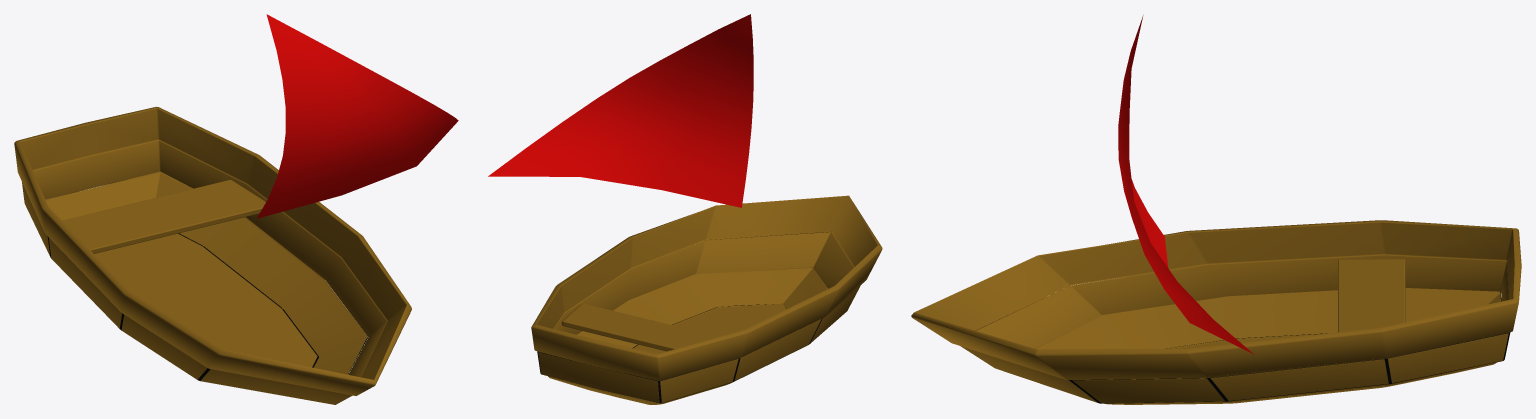
The model's file is boat.fbx.
3 renders of one model, left to right at view 1: azimuth 30°, elevation 25°; view 2: azimuth 150°, elevation 25°; view 3: azimuth 270°, elevation 25°, orthographic. The views are drawn at different scales.
Parts seen in each view (by area): view 1: Boat, Plane, Boat.003, Boat.002, Boat.001, Plane.002; view 2: Plane, Boat, Boat.003, Boat.002, Plane.002, Boat.001; view 3: Boat, Boat.003, Boat.002, Plane, Plane.002.
Part boxes in pixels (x1,y1,x2,y2): Boat: (14,106,411,395); Plane: (257,14,458,218); Boat.003: (22,140,387,404); Boat.002: (45,171,367,374); Boat.001: (94,233,317,367); Plane.002: (62,180,265,253); Plane: (488,14,753,207); Boat: (531,195,882,380); Boat.003: (537,232,860,403); Boat.002: (548,268,827,404); Plane.002: (561,303,718,351); Boat.001: (634,303,786,353); Boat: (911,220,1521,379); Boat.003: (961,255,1510,403); Boat.002: (1035,288,1501,404); Plane: (1118,15,1253,354); Plane.002: (1338,259,1405,332).
Bounding box in the file's own units: 396 × 366 × 545.
